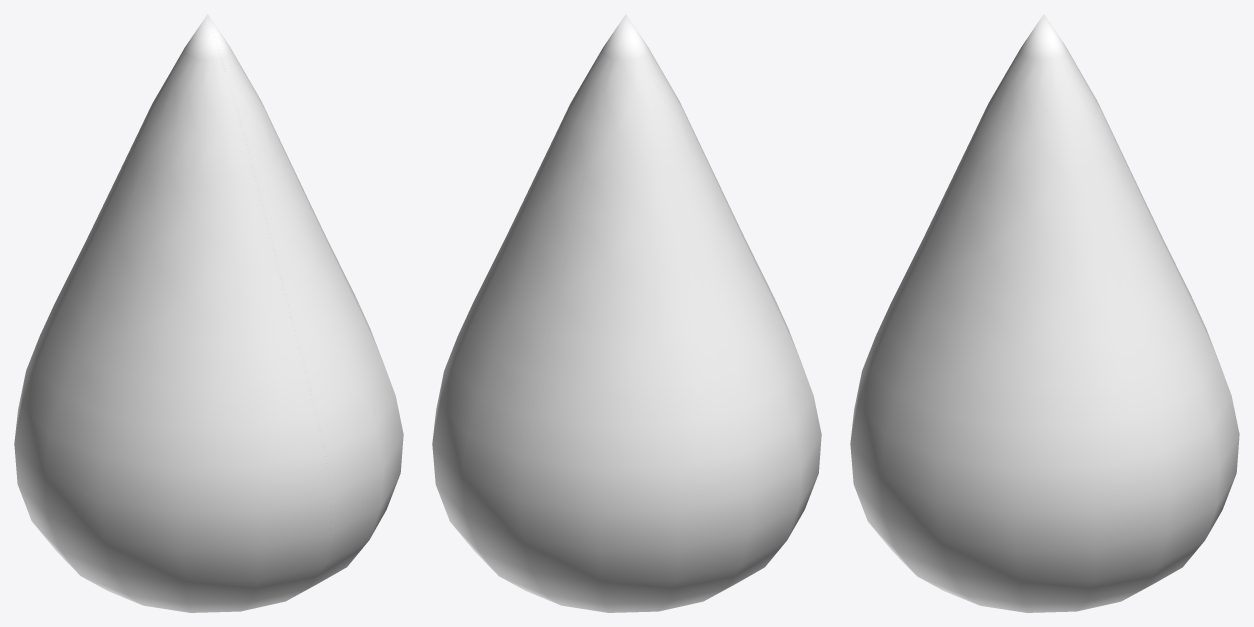
Rendered from water.glb.
The picture shows the model from 3 angles, left to right: view 1: azimuth 30°, elevation 25°; view 2: azimuth 150°, elevation 25°; view 3: azimuth 270°, elevation 25°; orthographic projection.
Visible parts, largest first — view 1: Retopo_Cylinder; view 2: Retopo_Cylinder; view 3: Retopo_Cylinder.
Boxes of the visible parts, left/top/right/bottom form: Retopo_Cylinder: left=14, top=14, right=403, bottom=612; Retopo_Cylinder: left=432, top=14, right=821, bottom=612; Retopo_Cylinder: left=850, top=14, right=1239, bottom=612.
Size of the model in its own units: 1.15 by 1.86 by 1.15.
Materials: 1 (1 with a texture image).
